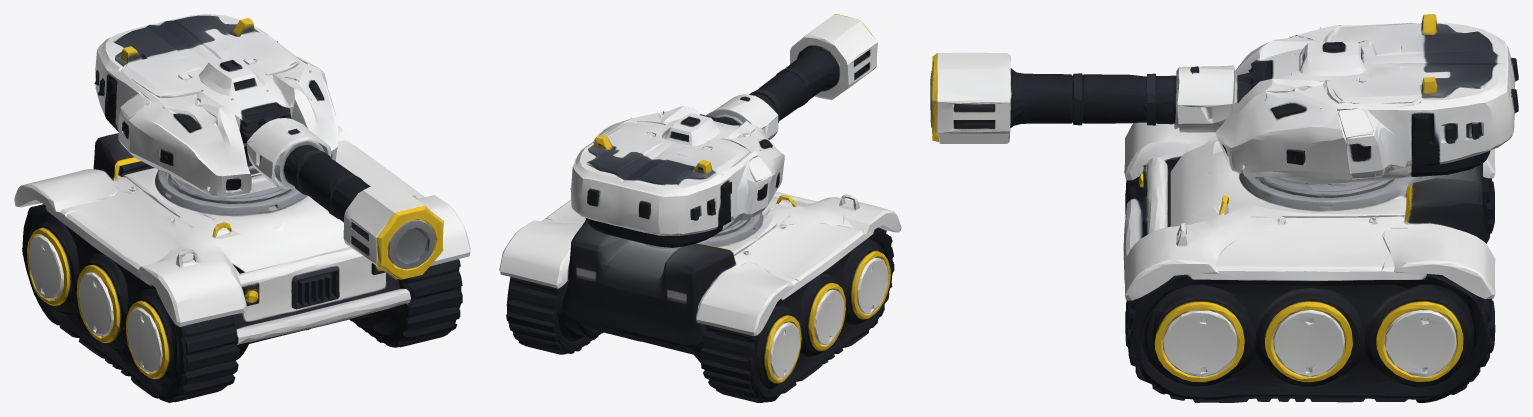
File: bubble_cannon.glb
3 views of the same model, side by side, from view 1: azimuth 30°, elevation 25°; view 2: azimuth 150°, elevation 25°; view 3: azimuth 270°, elevation 25° (orthographic). The views are drawn at different scales.
Visible parts, largest first — view 1: model; view 2: model; view 3: model.
Part boxes in pixels (x1,y1,x2,y2): model: [14, 14, 470, 402]; model: [499, 14, 901, 402]; model: [930, 14, 1518, 402].
Bounding box in the file's own units: 1.23 × 1.01 × 1.9.
Materials: 1 (1 with a texture image).
